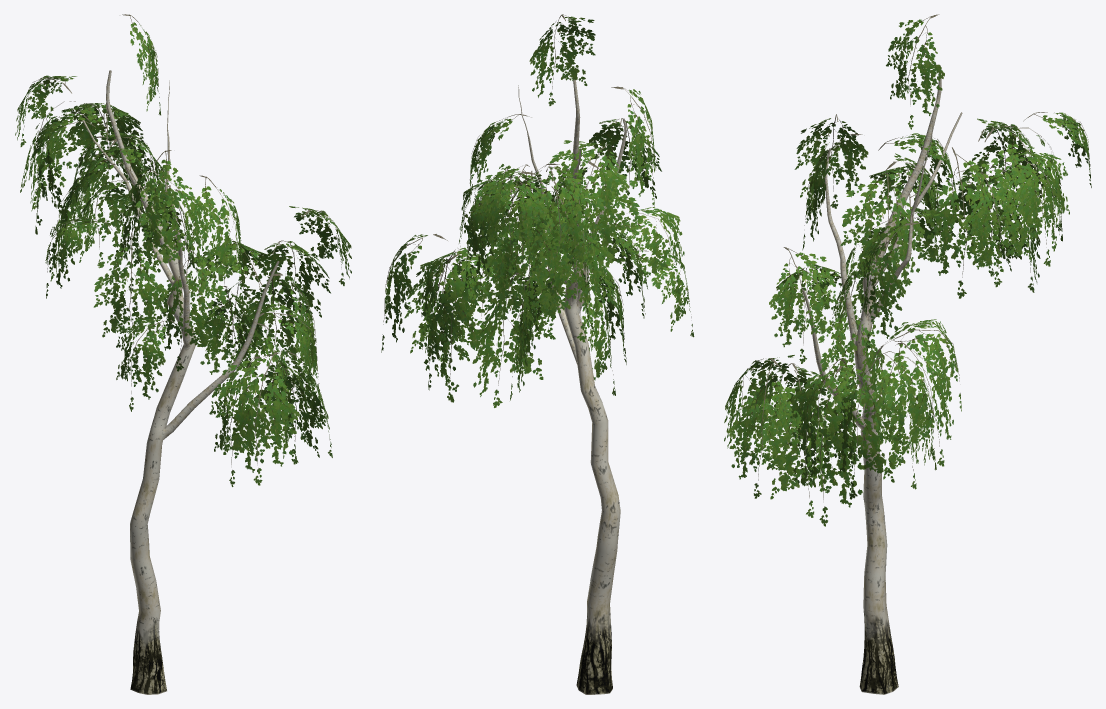
Rendered from miracle-birch-1.glb.
The picture shows the model from 3 angles, left to right: view 1: azimuth 30°, elevation 25°; view 2: azimuth 150°, elevation 25°; view 3: azimuth 270°, elevation 25°; orthographic projection. The views are drawn at different scales.
Visible parts, largest first — view 1: Birch_2_LOD2_Birch_Atlas_0, Birch_2_LOD2_Birch_bark_0; view 2: Birch_2_LOD2_Birch_Atlas_0, Birch_2_LOD2_Birch_bark_0; view 3: Birch_2_LOD2_Birch_Atlas_0, Birch_2_LOD2_Birch_bark_0.
Part boxes in pixels (x1,y1,x2,y2): Birch_2_LOD2_Birch_Atlas_0: (15, 14, 351, 694); Birch_2_LOD2_Birch_bark_0: (82, 70, 279, 588); Birch_2_LOD2_Birch_Atlas_0: (381, 14, 694, 694); Birch_2_LOD2_Birch_bark_0: (518, 79, 626, 580); Birch_2_LOD2_Birch_Atlas_0: (724, 14, 1091, 694); Birch_2_LOD2_Birch_bark_0: (802, 65, 962, 576).
Bounding box in the file's own units: 2.16 × 4.8 × 2.38.
2 materials, 2 textured.
